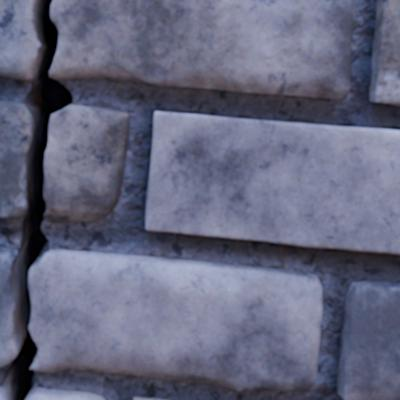brick: (146, 112, 399, 253), (338, 282, 399, 399), (370, 0, 399, 104), (134, 398, 161, 399)
broken_brick: (29, 248, 323, 391), (50, 0, 355, 100), (45, 104, 129, 221), (0, 99, 29, 219), (0, 0, 38, 81), (0, 246, 17, 367), (28, 386, 105, 399), (0, 388, 4, 399)
crack: (0, 0, 72, 399)
